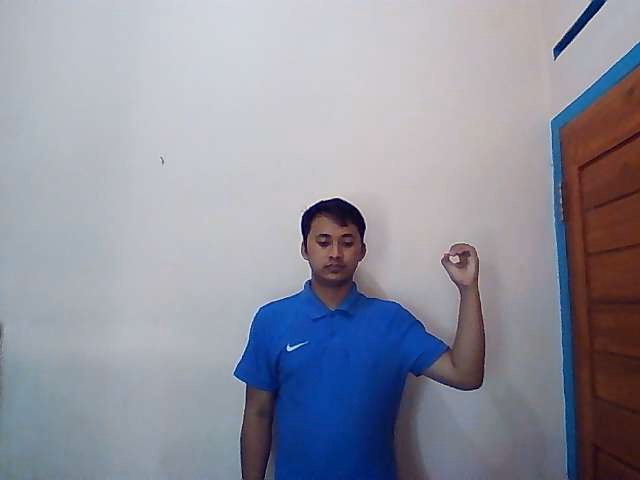O: (441, 242, 482, 284)
